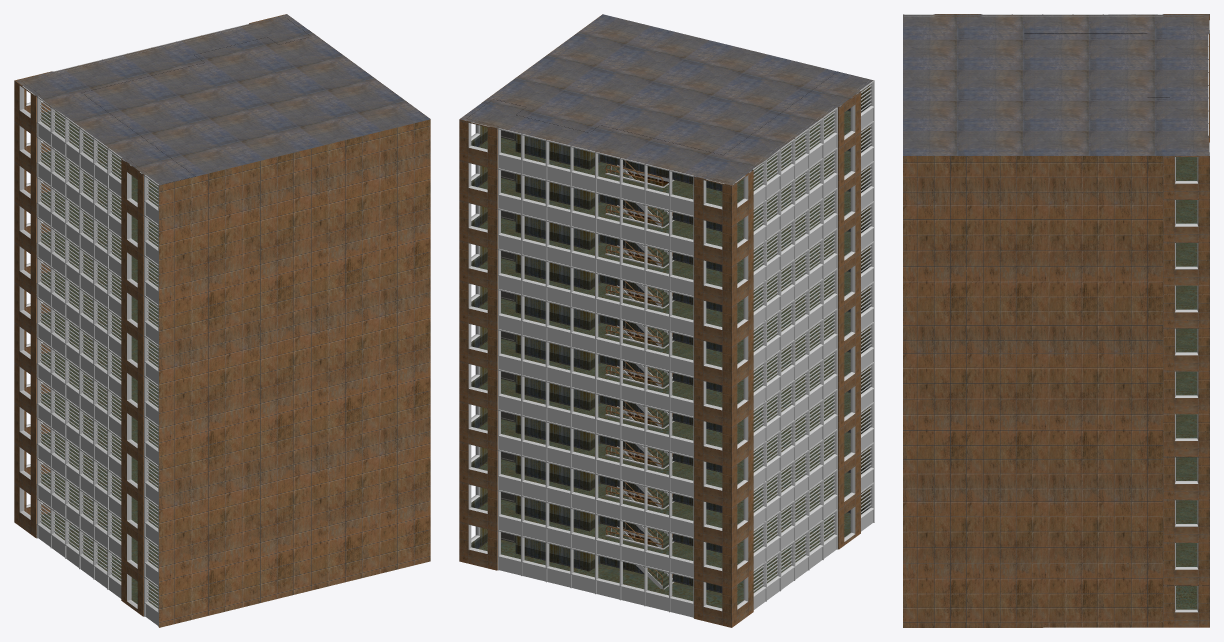
The model's file is Building_18.fbx.
3 renders of one model, left to right at view 1: azimuth 30°, elevation 25°; view 2: azimuth 150°, elevation 25°; view 3: azimuth 270°, elevation 25°, orthographic. The views are drawn at different scales.
Parts seen in each view (by area): view 1: Building_18; view 2: Building_18; view 3: Building_18.
Boxes of the visible parts, x1=… form: Building_18: x1=14, y1=14, x2=430, y2=627; Building_18: x1=459, y1=14, x2=874, y2=627; Building_18: x1=903, y1=14, x2=1209, y2=627.
Size of the model in its own units: 2206 by 3423 by 2016.
